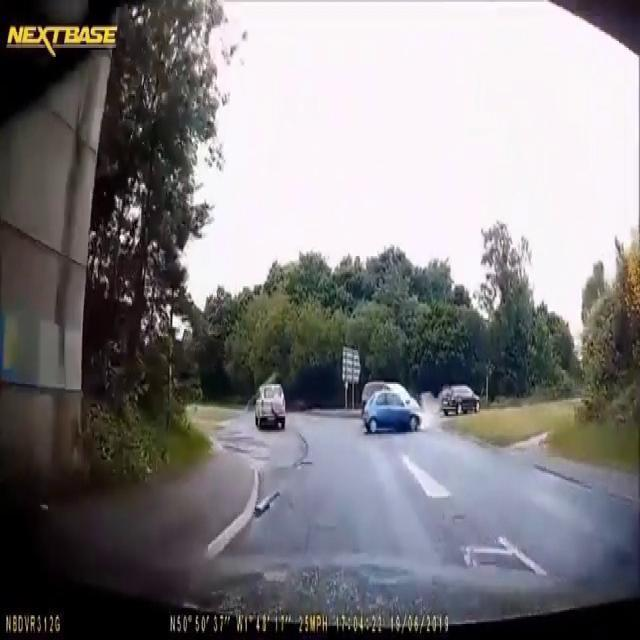multiple_accident: (350, 354, 497, 446)
